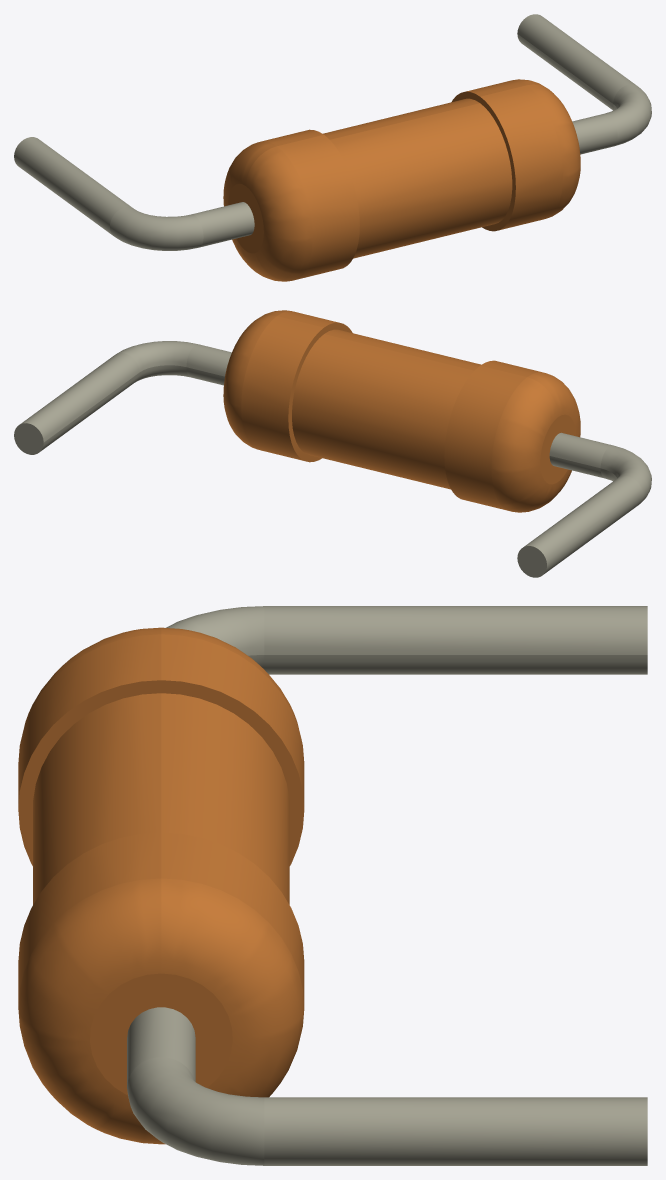
File: r_axial_din0207_l6.3mm_d2.5mm_p10.16mm_horizontal.glb
The picture shows the model from 3 angles, top to bottom: view 1: azimuth 30°, elevation 25°; view 2: azimuth 150°, elevation 25°; view 3: azimuth 270°, elevation 25°; orthographic projection. The views are drawn at different scales.
Visible parts, largest first — view 1: R_Axial_DIN0207_L6.3mm_D2.5mm_P10.16mm_Horizontal; view 2: R_Axial_DIN0207_L6.3mm_D2.5mm_P10.16mm_Horizontal; view 3: R_Axial_DIN0207_L6.3mm_D2.5mm_P10.16mm_Horizontal.
Part boxes in pixels (x1=…): R_Axial_DIN0207_L6.3mm_D2.5mm_P10.16mm_Horizontal: x1=14, y1=14, x2=651, y2=281; R_Axial_DIN0207_L6.3mm_D2.5mm_P10.16mm_Horizontal: x1=14, y1=310, x2=651, y2=577; R_Axial_DIN0207_L6.3mm_D2.5mm_P10.16mm_Horizontal: x1=18, y1=606, x2=647, y2=1165.
Size of the model in its own units: 10.76 by 2.5 by 5.5.
